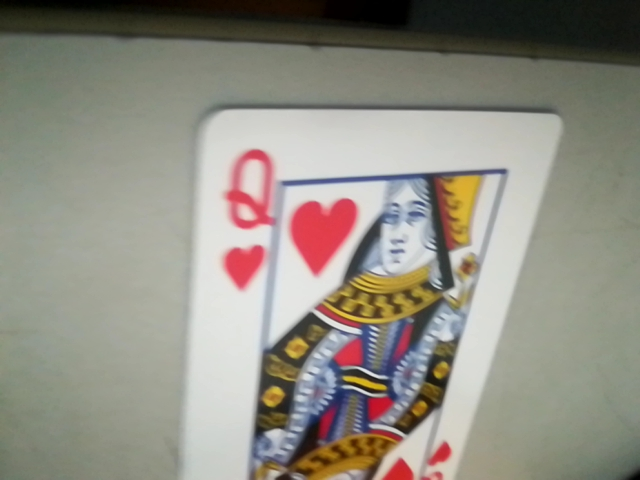hx q: (218, 149, 272, 290)
